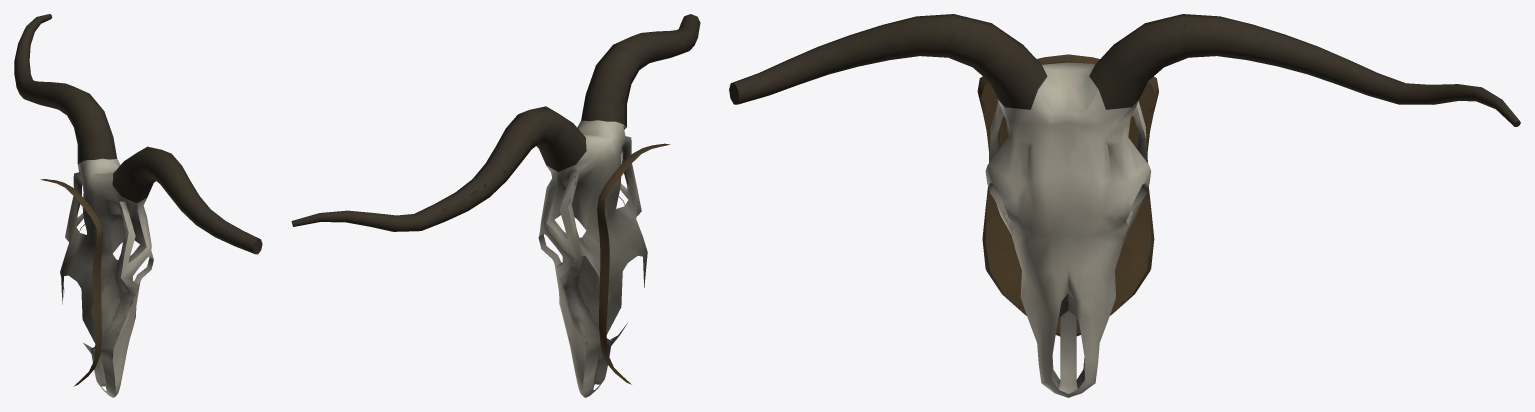
3 views of the same model, side by side, from view 1: azimuth 30°, elevation 25°; view 2: azimuth 150°, elevation 25°; view 3: azimuth 270°, elevation 25° (orthographic). The views are drawn at different scales.
Parts seen in each view (by area): view 1: body0_model0_lod0_mesh0; view 2: body0_model0_lod0_mesh0; view 3: body0_model0_lod0_mesh0.
Part boxes in pixels (x1,y1,x2,y2): body0_model0_lod0_mesh0: [14, 14, 262, 397]; body0_model0_lod0_mesh0: [291, 14, 700, 397]; body0_model0_lod0_mesh0: [729, 14, 1520, 397].
Bounding box in the file's own units: 28.76 × 52.09 × 96.4.
Materials: 1 (1 with a texture image).
